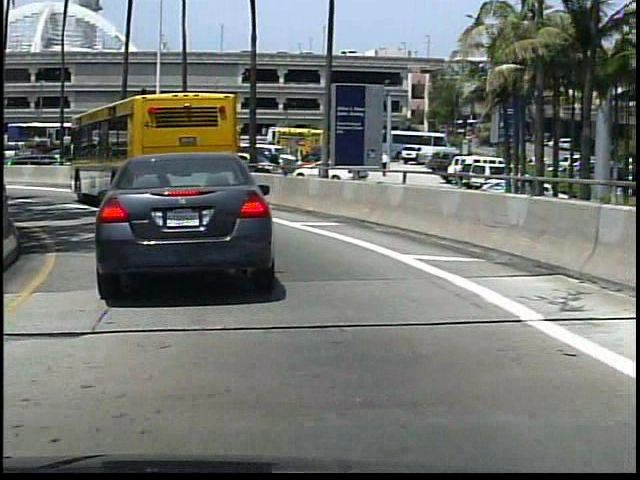person: (265, 148, 281, 180), (377, 149, 392, 179)
